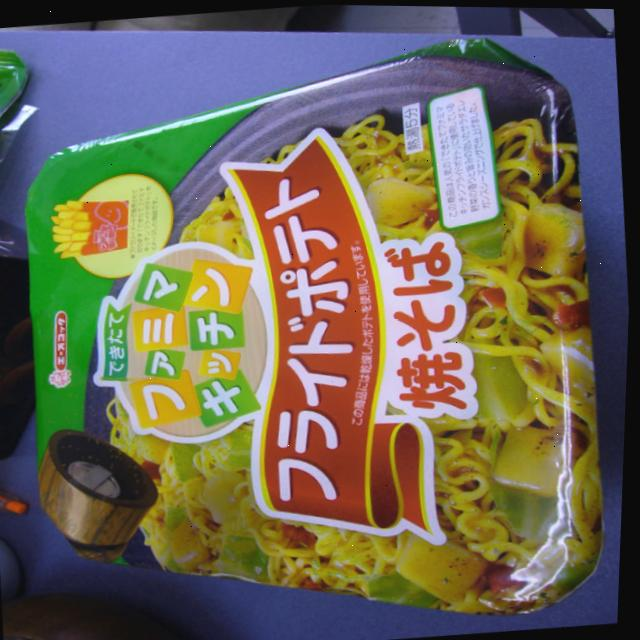炸货点心: (4, 22, 625, 639)
